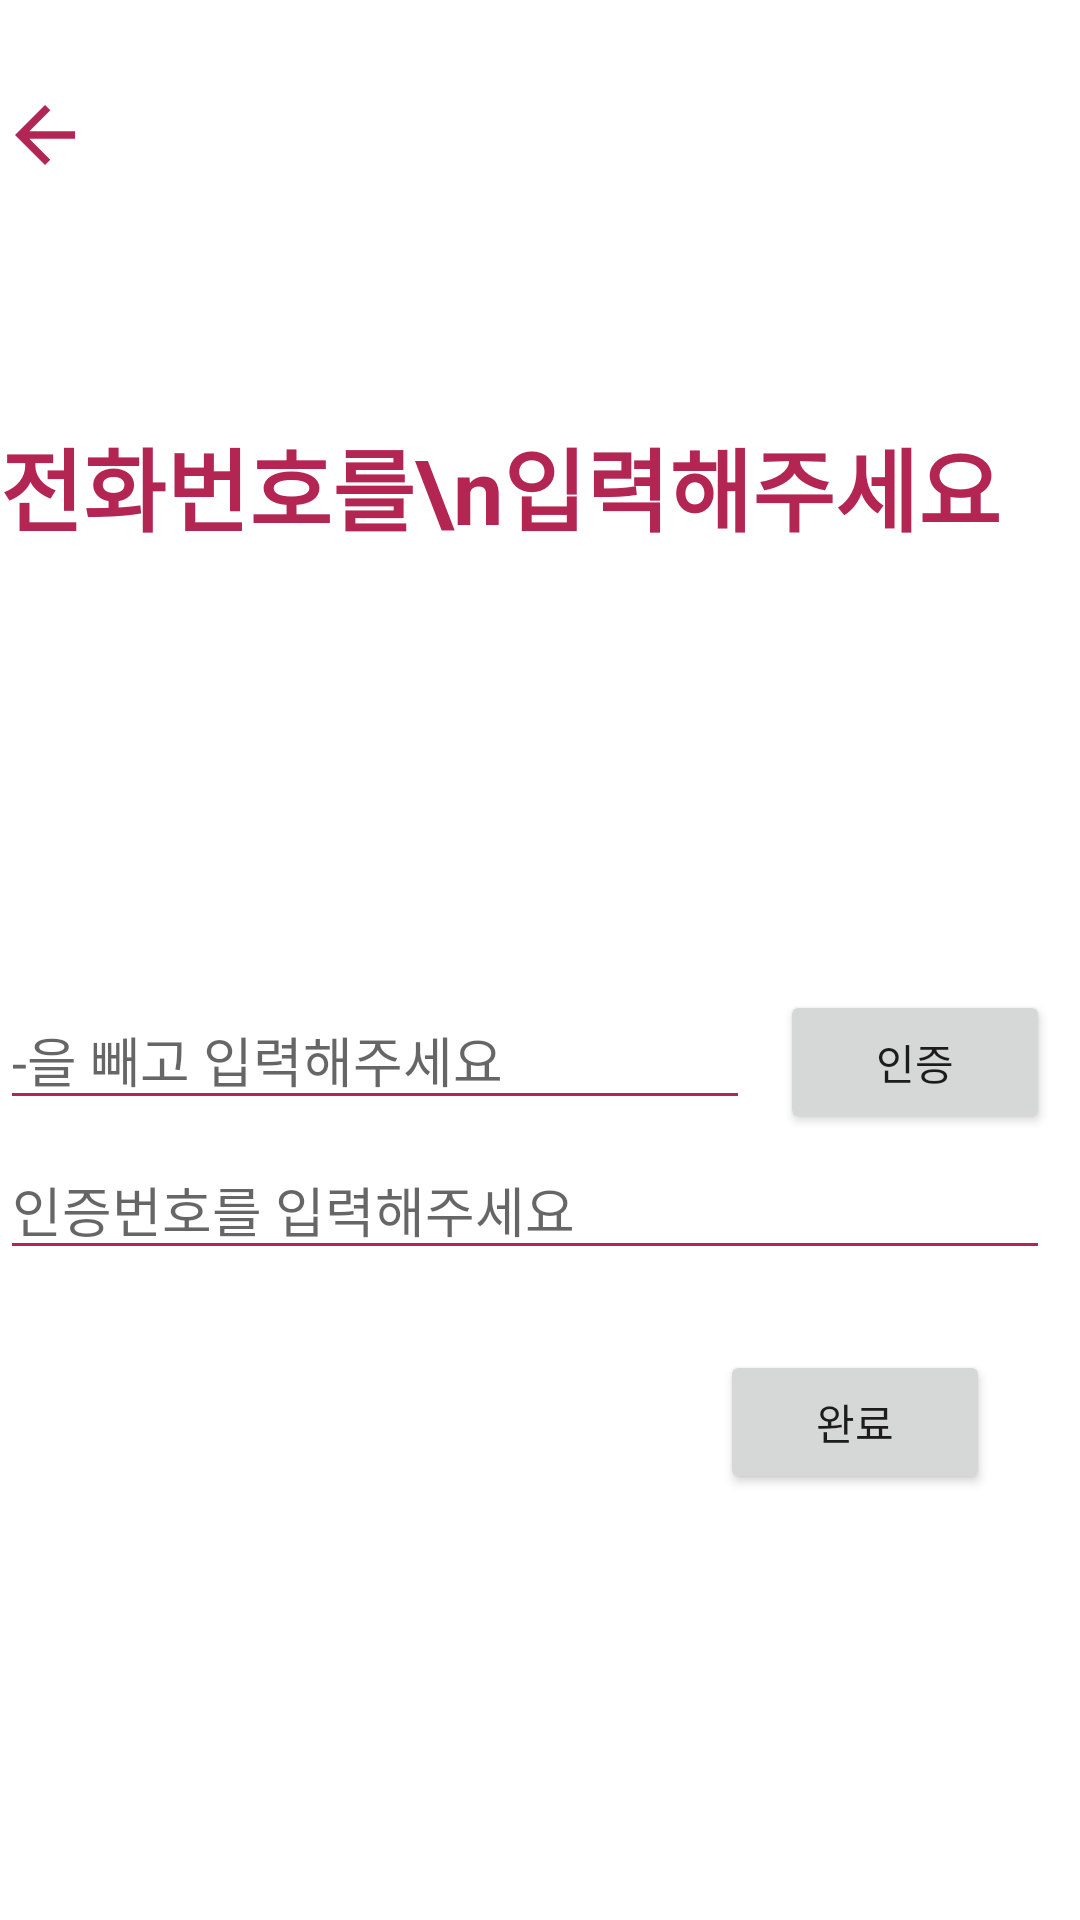

Icon bounding boxes for this 1080×1920 phone screenshot, format BBox(x1, y1, x2, y2):
arrow back: BBox(15, 105, 75, 165)
